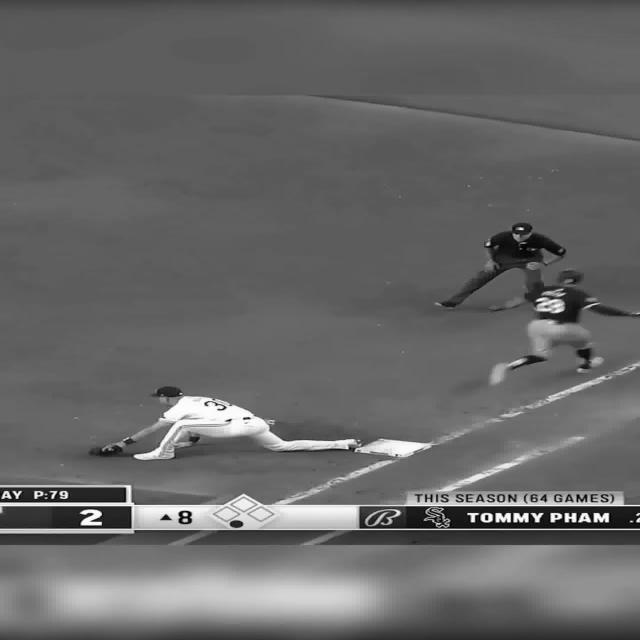base: (357, 439, 431, 458)
baseball_glove: (89, 445, 122, 456)
shoe: (487, 362, 511, 386), (576, 356, 605, 374), (133, 451, 176, 460), (433, 301, 456, 310), (345, 439, 362, 449)
